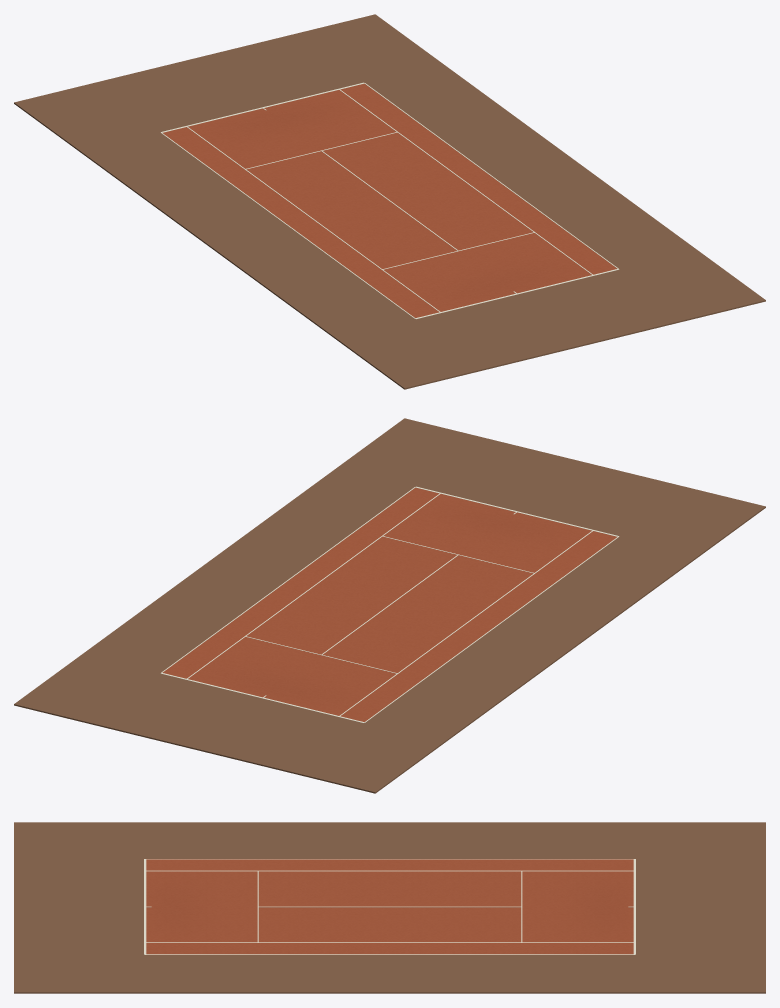
File: court-clay.glb
The picture shows the model from 3 angles, top to bottom: view 1: azimuth 30°, elevation 25°; view 2: azimuth 150°, elevation 25°; view 3: azimuth 270°, elevation 25°; orthographic projection. The views are drawn at different scales.
Parts seen in each view (by area): view 1: Court surround, Court surface, Ivory court lines; view 2: Court surround, Court surface, Ivory court lines; view 3: Court surround, Court surface, Ivory court lines.
Boxes of the visible parts, x1,y1,x2,y2 form: Court surround: (14, 14, 765, 389); Court surface: (163, 83, 617, 317); Ivory court lines: (160, 82, 619, 319); Court surround: (14, 418, 765, 793); Court surface: (162, 487, 616, 721); Ivory court lines: (160, 486, 619, 723); Court surround: (14, 822, 765, 993); Court surface: (146, 859, 633, 954); Ivory court lines: (144, 859, 635, 954).
Size of the model in its own units: 19.5 by 0.095 by 36.5.
3 materials, 1 textured.
